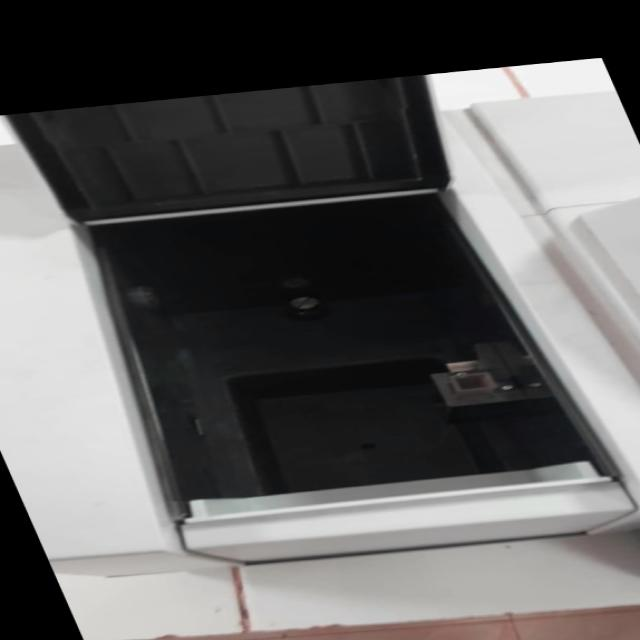Spectrophotometer: (35, 149, 640, 563)
